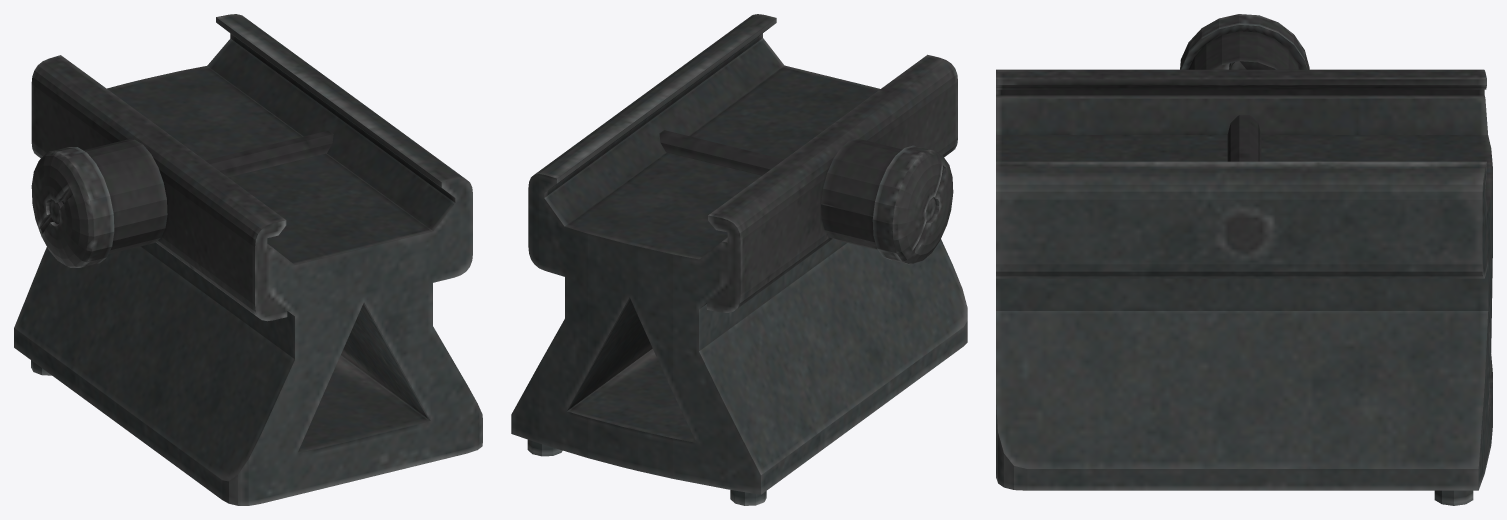
3 renders of one model, left to right at view 1: azimuth 30°, elevation 25°; view 2: azimuth 150°, elevation 25°; view 3: azimuth 270°, elevation 25°, orthographic. The views are drawn at different scales.
Visible parts, largest first — view 1: TW_5a33b652c4a28232996e407c_PZ_Import; view 2: TW_5a33b652c4a28232996e407c_PZ_Import; view 3: TW_5a33b652c4a28232996e407c_PZ_Import.
Part boxes in pixels (left/top/right/bottom): TW_5a33b652c4a28232996e407c_PZ_Import: left=14, top=14, right=482, bottom=505; TW_5a33b652c4a28232996e407c_PZ_Import: left=511, top=14, right=967, bottom=505; TW_5a33b652c4a28232996e407c_PZ_Import: left=996, top=14, right=1492, bottom=505.
Size of the model in its own units: 0.0218 by 0.0266 by 0.0194.
Materials: 1 (1 with a texture image).
